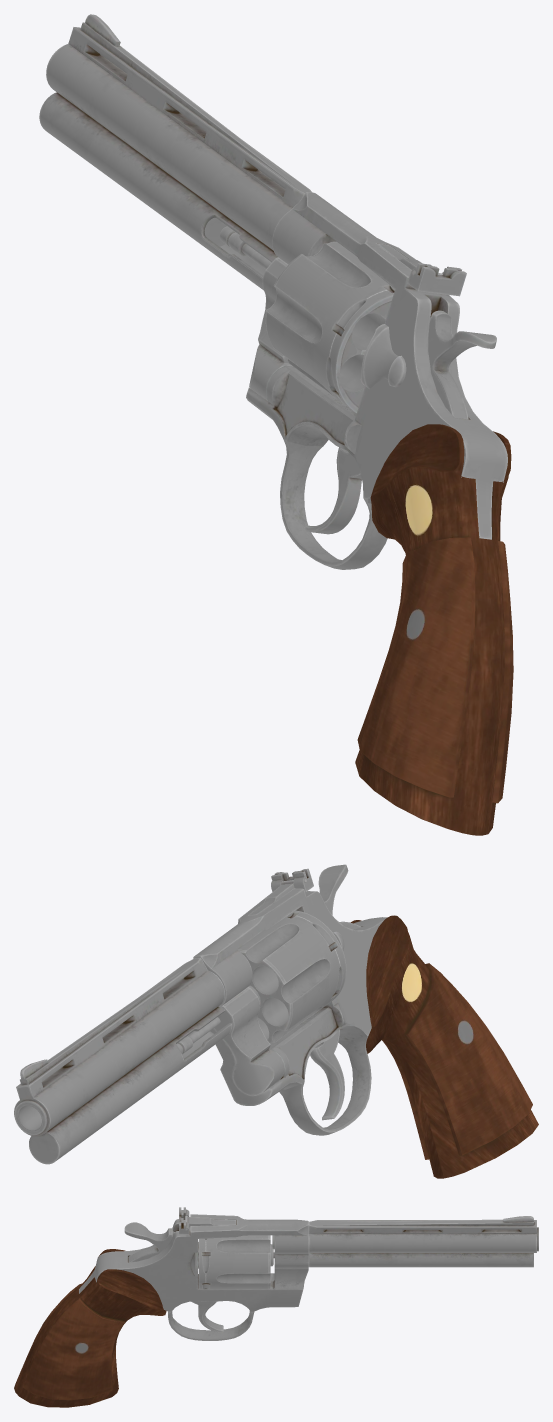
The model's file is colt_python_dirt2.glb.
3 views of the same model, one above another, from view 1: azimuth 30°, elevation 25°; view 2: azimuth 150°, elevation 25°; view 3: azimuth 270°, elevation 25° (orthographic). The views are drawn at different scales.
Visible parts, largest first — view 1: grip_low.001, barrel_low.001, body_low.001, wheel_low.001, Hammer_low.001, wheel_rot_low.001, trigger_low.001, slot_low.001, sight_low.001; view 2: grip_low.001, barrel_low.001, body_low.001, wheel_low.001, wheel_rot_low.001, trigger_low.001, Hammer_low.001, sight_low.001, handle_low.001, sight_fixed_low.001; view 3: grip_low.001, barrel_low.001, body_low.001, wheel_low.001, Hammer_low.001, trigger_low.001, sight_fixed_low.001, sight_low.001.
Boxes of the visible parts, x1=… form: grip_low.001: x1=355, y1=424, x2=513, y2=835; barrel_low.001: x1=39, y1=14, x2=311, y2=290; body_low.001: x1=246, y1=192, x2=507, y2=569; wheel_low.001: x1=265, y1=242, x2=395, y2=412; Hammer_low.001: x1=428, y1=310, x2=496, y2=419; wheel_rot_low.001: x1=249, y1=257, x2=292, y2=401; trigger_low.001: x1=304, y1=447, x2=361, y2=534; slot_low.001: x1=360, y1=324, x2=398, y2=389; sight_low.001: x1=407, y1=263, x2=466, y2=296; grip_low.001: x1=350, y1=915, x2=538, y2=1178; barrel_low.001: x1=14, y1=958, x2=232, y2=1164; body_low.001: x1=193, y1=888, x2=387, y2=1135; wheel_low.001: x1=238, y1=910, x2=346, y2=1044; wheel_rot_low.001: x1=214, y1=987, x2=285, y2=1095; trigger_low.001: x1=310, y1=1030, x2=344, y2=1120; Hammer_low.001: x1=318, y1=864, x2=360, y2=929; sight_low.001: x1=271, y1=868, x2=313, y2=892; handle_low.001: x1=176, y1=985, x2=260, y2=1054; sight_fixed_low.001: x1=248, y1=880, x2=294, y2=915; grip_low.001: x1=14, y1=1249, x2=166, y2=1407; barrel_low.001: x1=308, y1=1216, x2=538, y2=1267; body_low.001: x1=79, y1=1214, x2=308, y2=1340; wheel_low.001: x1=198, y1=1235, x2=270, y2=1289; Hammer_low.001: x1=124, y1=1222, x2=174, y2=1262; trigger_low.001: x1=191, y1=1301, x2=223, y2=1332; sight_fixed_low.001: x1=185, y1=1215, x2=236, y2=1227; sight_low.001: x1=179, y1=1207, x2=189, y2=1234.
Bounding box in the file's own units: 0.0669 × 0.1324 × 0.2894.
1 material, 1 textured.
